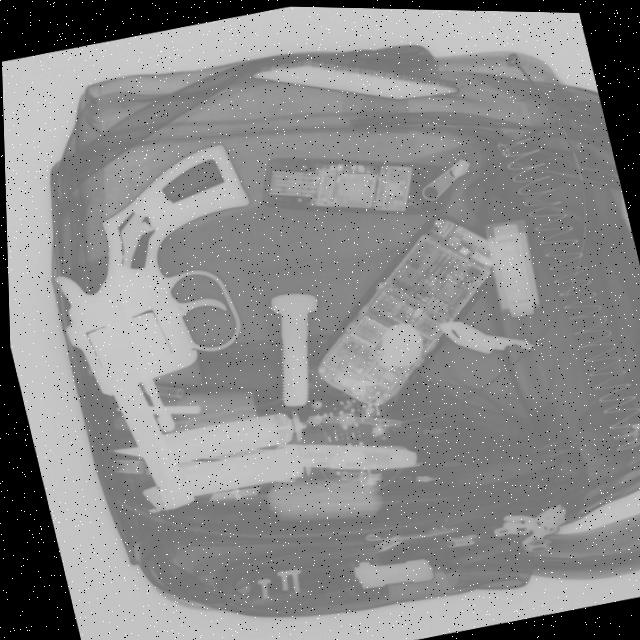grenade: (260, 183, 564, 476)
